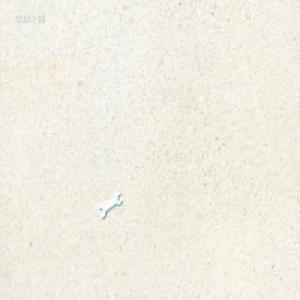Wrench: (99, 189, 122, 217)
